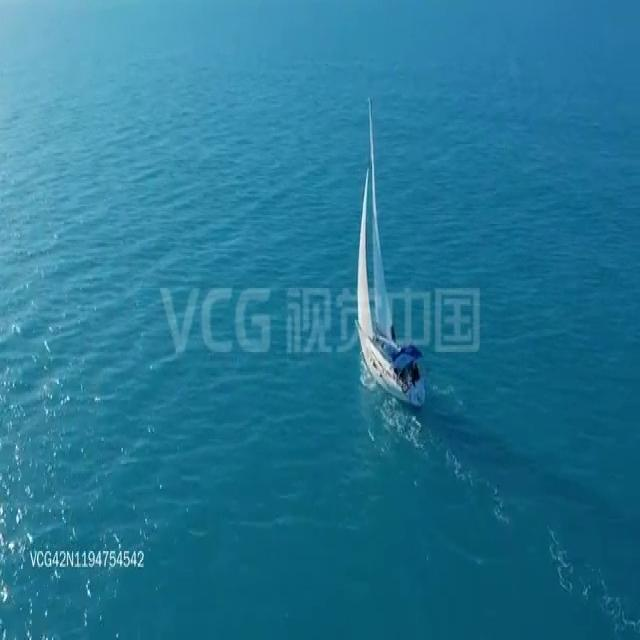sailboat: (356, 93, 426, 399)
